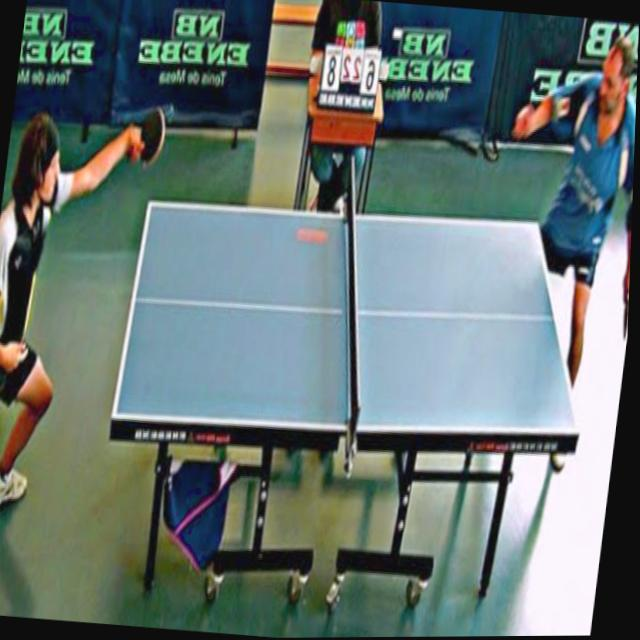TT Net: (340, 138, 365, 457)
TT Racket: (131, 95, 170, 173), (620, 291, 629, 348)
TT Table: (110, 202, 579, 436)
